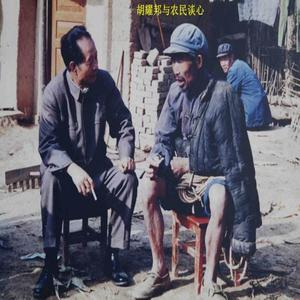cigarette: (90, 183, 98, 202)
